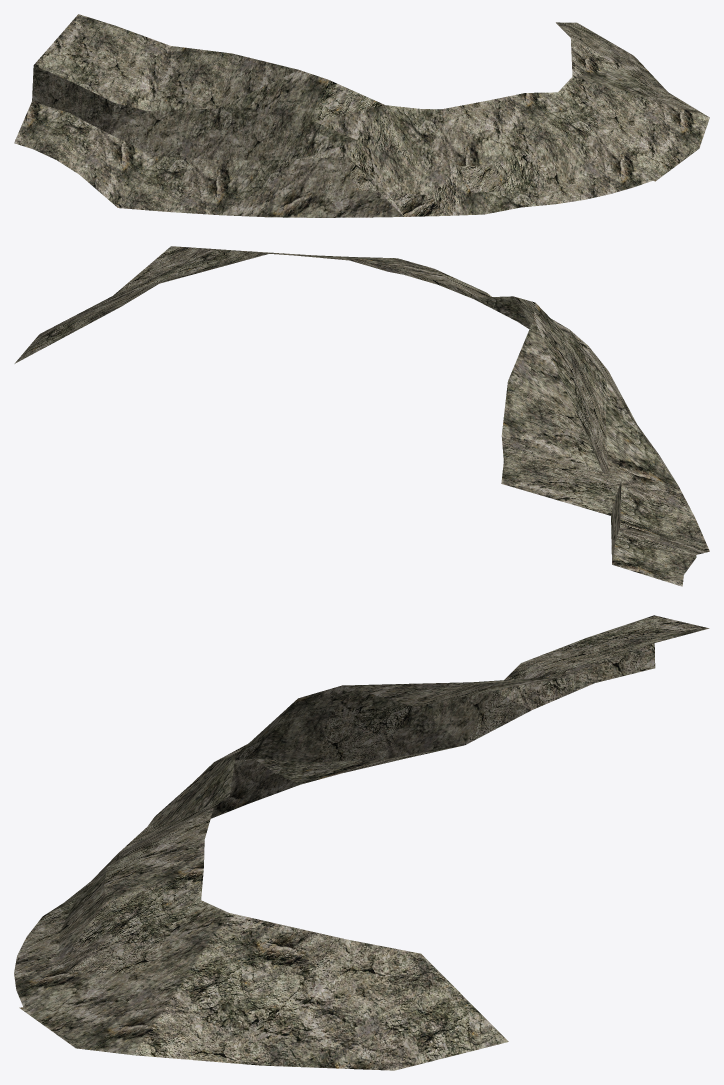
File: ce_groundpalo12a.obj
3 renders of one model, top to bottom at view 1: azimuth 30°, elevation 25°; view 2: azimuth 150°, elevation 25°; view 3: azimuth 270°, elevation 25°, orthographic. The views are drawn at different scales.
Parts seen in each view (by area): view 1: CE_groundPALO12A; view 2: CE_groundPALO12A; view 3: CE_groundPALO12A.
Boxes of the visible parts, x1,y1,x2,y2 form: CE_groundPALO12A: (14, 14, 709, 217); CE_groundPALO12A: (14, 246, 709, 586); CE_groundPALO12A: (14, 615, 709, 1070).
Bounding box in the file's own units: 113 × 23.25 × 82.76.
1 material, 1 textured.
